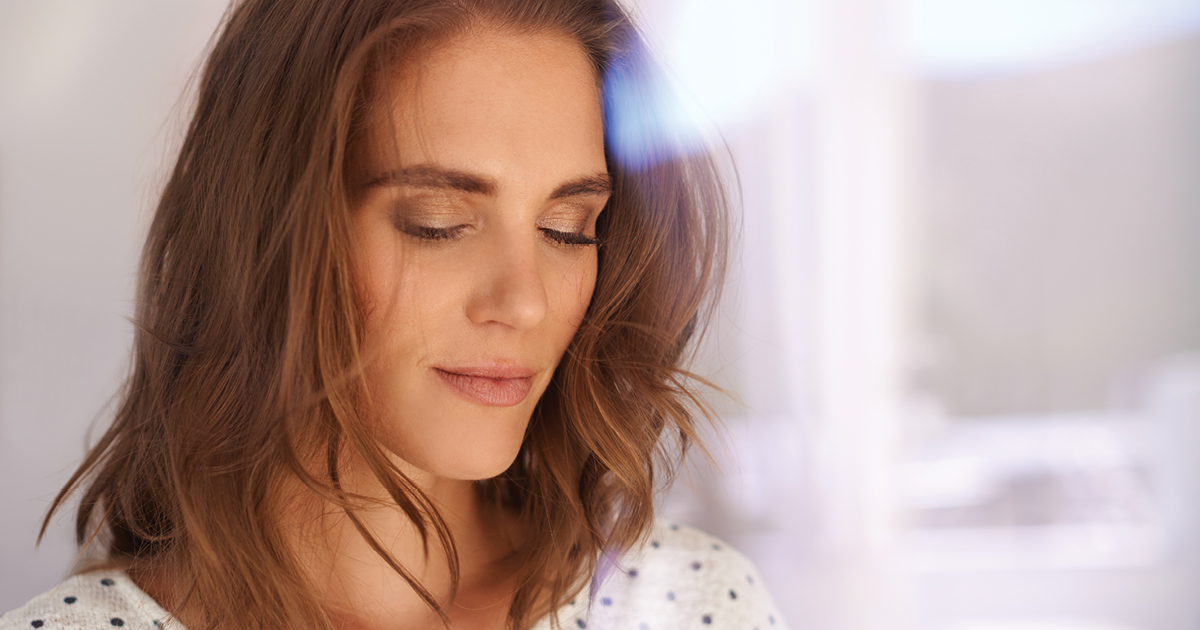person: (42, 2, 790, 630)
